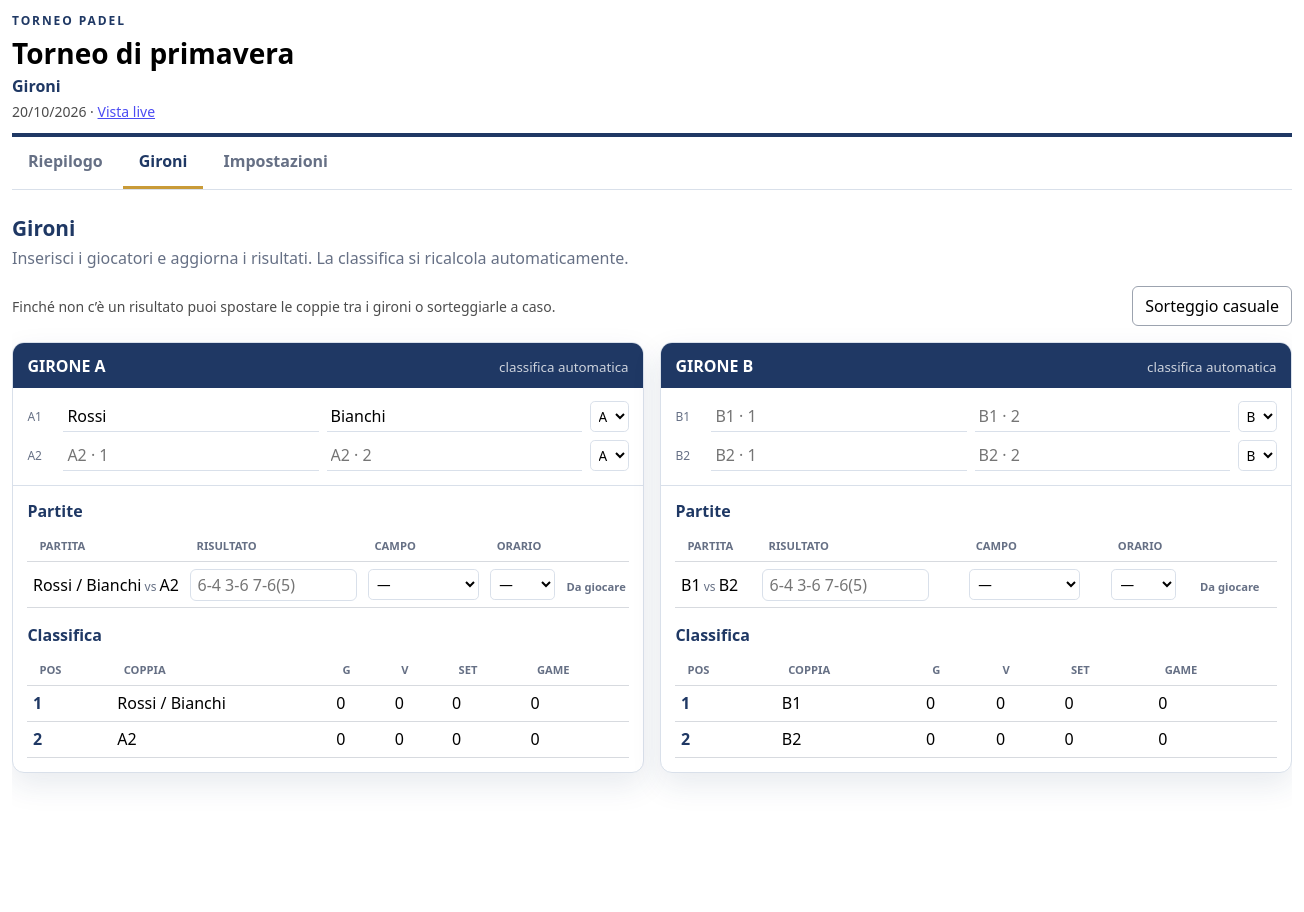
Scenario: TournamentPage › groups tab › explains a result it cannot read, and saves nothing
The image size is (1304, 912).
Type "6-3 sei-tre" into the field named "Risultato di Rossi / Bianchi – A2".
click(274, 585); type("6-3 sei-tre")  # box [190,569,357,601]
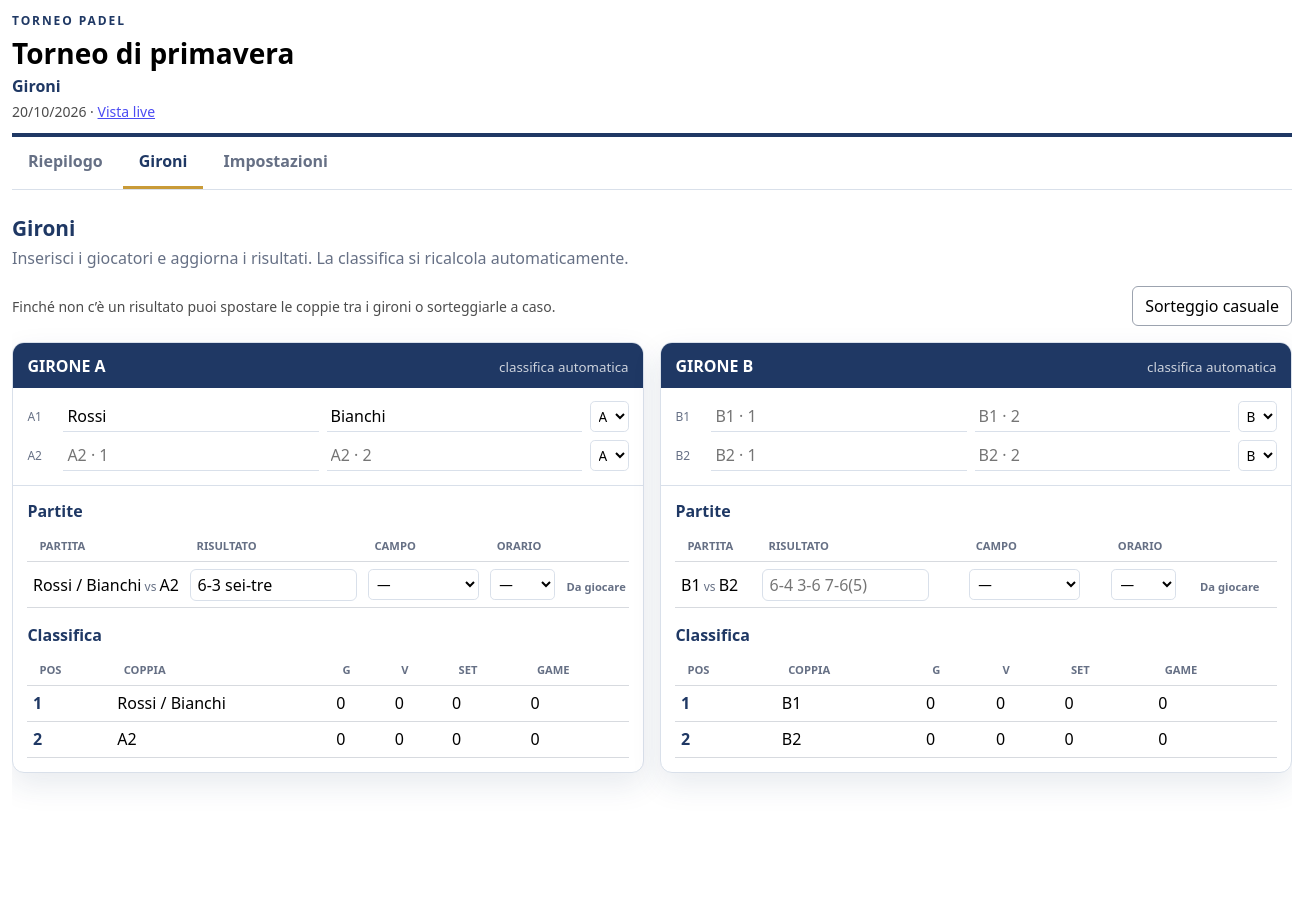
Leave the field named "Risultato di Rossi / Bianchi – A2", box [190,569,357,601]
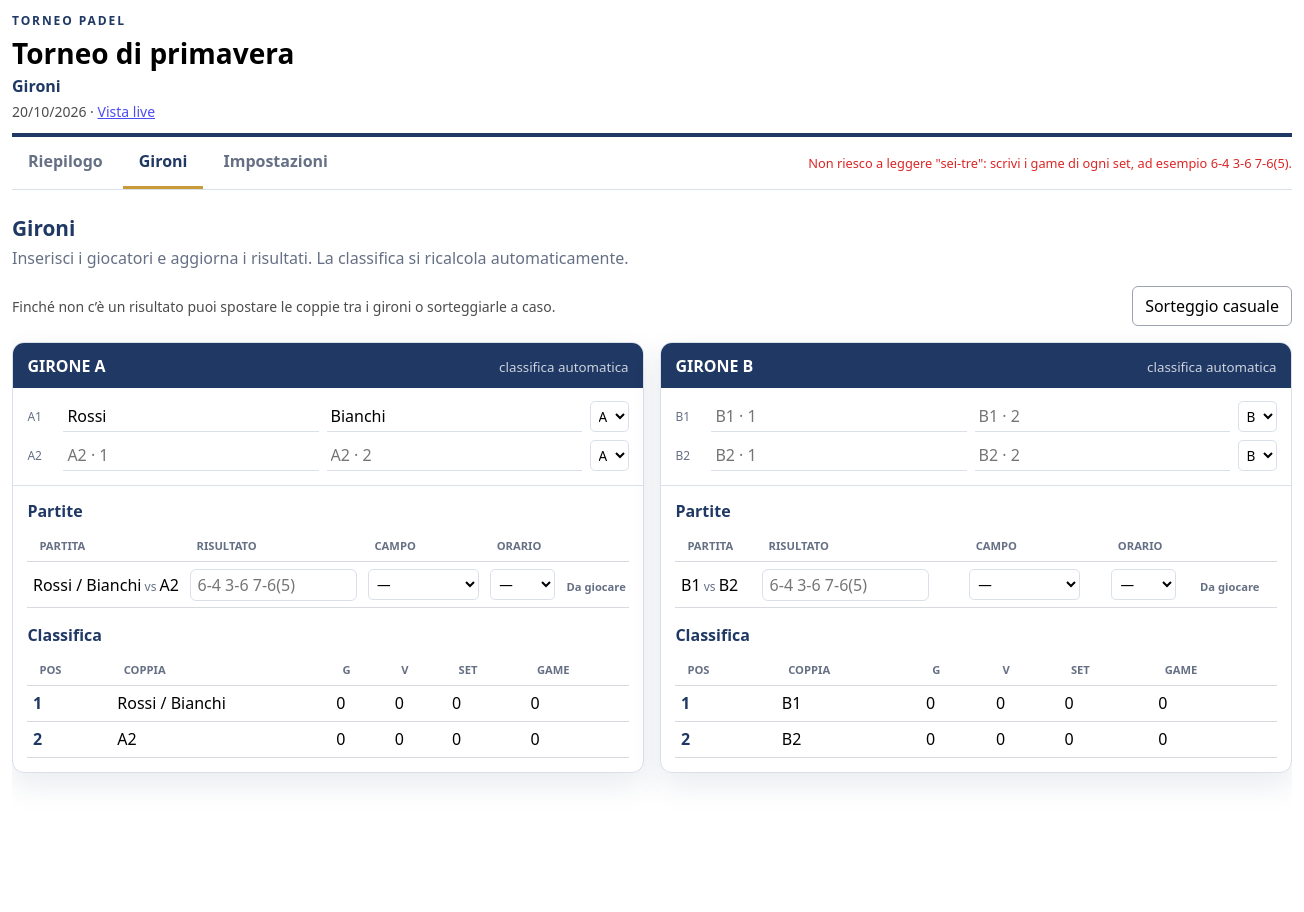
Check: the message shows "Non riesco a leggere \"sei-tre\"", box [808,154,1292,172]
Check: the field named "Risultato di Rossi / Bianchi – A2" is empty, box [190,569,357,601]
